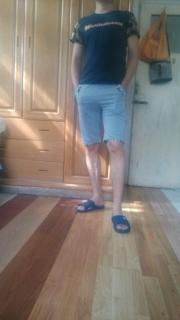short sleeve top: (70, 10, 141, 85)
shorts: (75, 74, 127, 145)
